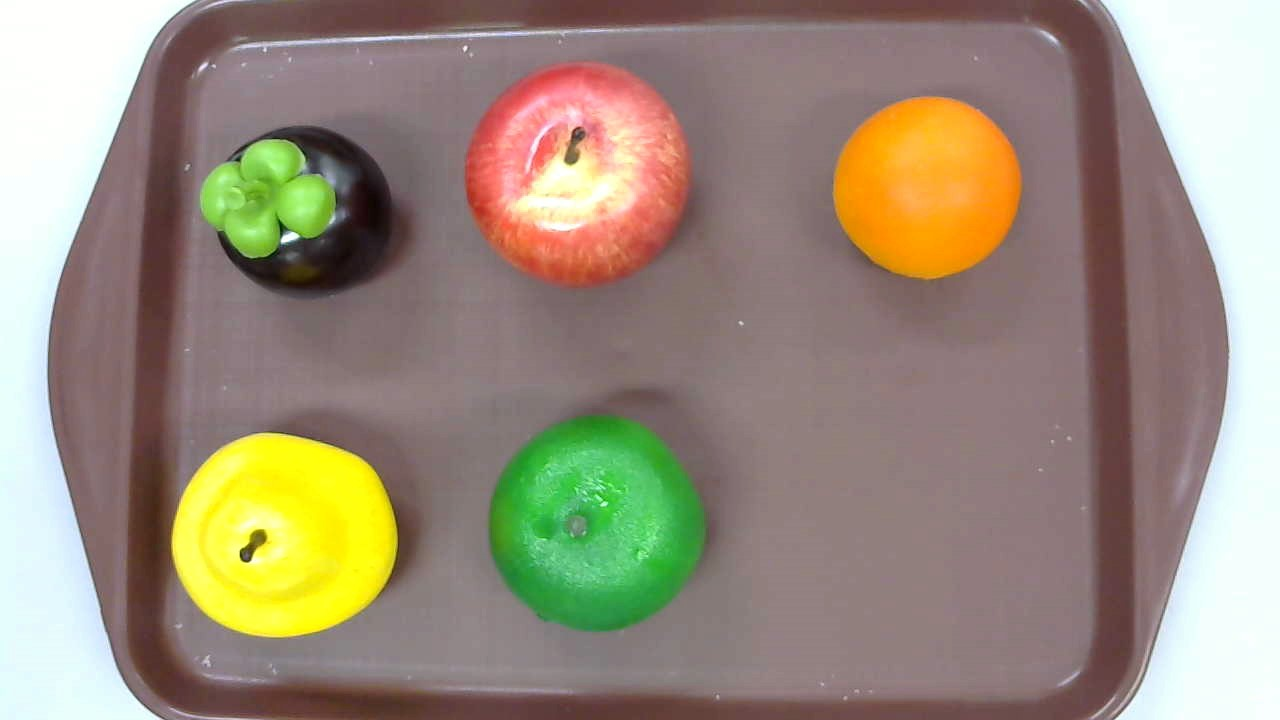bun: (833, 96, 1022, 281)
green orange: (489, 415, 707, 632)
mangosteen: (200, 126, 390, 300)
red apple: (463, 59, 693, 289)
yellow pear: (171, 432, 399, 638)
